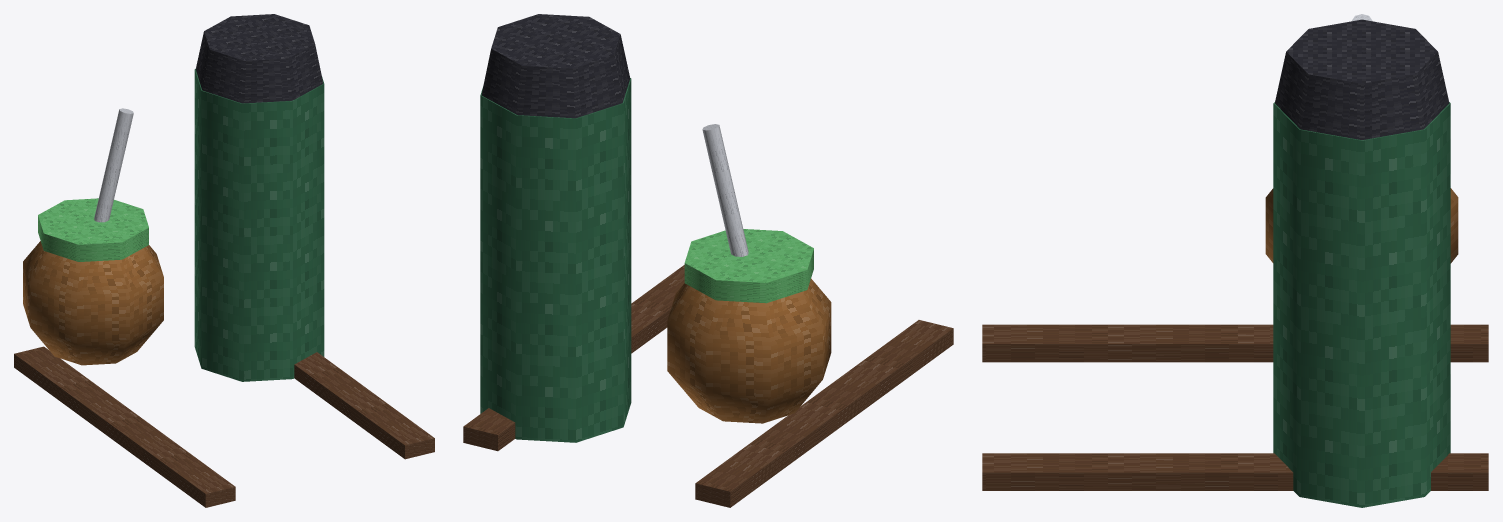
The model's file is termo_y_mate.glb.
3 renders of one model, left to right at view 1: azimuth 30°, elevation 25°; view 2: azimuth 150°, elevation 25°; view 3: azimuth 270°, elevation 25°, orthographic. The views are drawn at different scales.
Visible parts, largest first — view 1: _MeshInstance3D_75, _MeshInstance3D_77, _MeshInstance3D_76, _MeshInstance3D_80, _MeshInstance3D_78, _MeshInstance3D_81, _MeshInstance3D_79; view 2: _MeshInstance3D_75, _MeshInstance3D_77, _MeshInstance3D_76, _MeshInstance3D_80, _MeshInstance3D_78, _MeshInstance3D_81, _MeshInstance3D_79; view 3: _MeshInstance3D_75, _MeshInstance3D_76, _MeshInstance3D_81, _MeshInstance3D_80, _MeshInstance3D_77.
Boxes of the visible parts, <box> form: _MeshInstance3D_75: <box>194,69,324,381</box>; _MeshInstance3D_77: <box>23,241,163,365</box>; _MeshInstance3D_76: <box>195,14,323,103</box>; _MeshInstance3D_80: <box>14,346,235,507</box>; _MeshInstance3D_78: <box>38,198,148,261</box>; _MeshInstance3D_81: <box>294,352,434,459</box>; _MeshInstance3D_79: <box>94,108,133,222</box>; _MeshInstance3D_75: <box>480,78,631,442</box>; _MeshInstance3D_77: <box>667,278,831,423</box>; _MeshInstance3D_76: <box>481,14,630,118</box>; _MeshInstance3D_80: <box>695,320,953,507</box>; _MeshInstance3D_78: <box>684,229,813,303</box>; _MeshInstance3D_81: <box>463,265,684,451</box>; _MeshInstance3D_79: <box>702,124,748,256</box>; _MeshInstance3D_75: <box>1273,102,1450,507</box>; _MeshInstance3D_76: <box>1275,19,1449,139</box>; _MeshInstance3D_81: <box>982,453,1488,490</box>; _MeshInstance3D_80: <box>982,324,1488,362</box>; _MeshInstance3D_77: <box>1265,188,1458,263</box>.
Size of the model in its own units: 0.173 by 0.1825 by 0.2.
6 materials, 6 textured.
